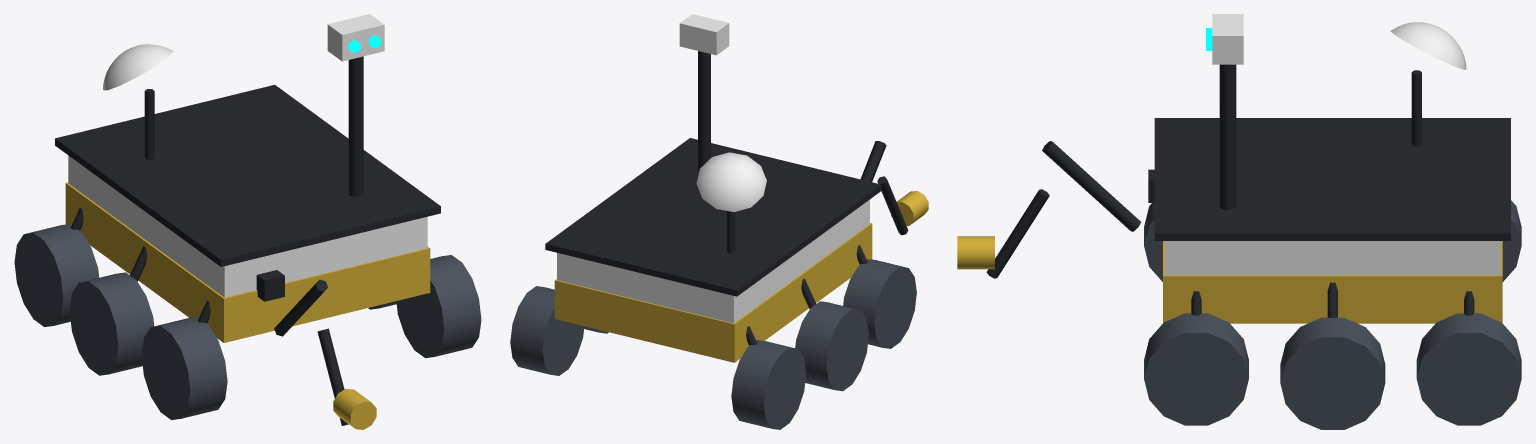
Rendered from rover.glb.
3 renders of one model, left to right at view 1: azimuth 30°, elevation 25°; view 2: azimuth 150°, elevation 25°; view 3: azimuth 270°, elevation 25°, orthographic. The views are drawn at different scales.
Parts seen in each view (by area): view 1: Rover_ARES5; view 2: Rover_ARES5; view 3: Rover_ARES5.
Part boxes in pixels (<box>): Rover_ARES5: <box>14,14,481,429</box>; Rover_ARES5: <box>510,14,928,429</box>; Rover_ARES5: <box>957,14,1521,429</box>.
Bounding box in the file's own units: 1.82 × 1.87 × 2.69.
